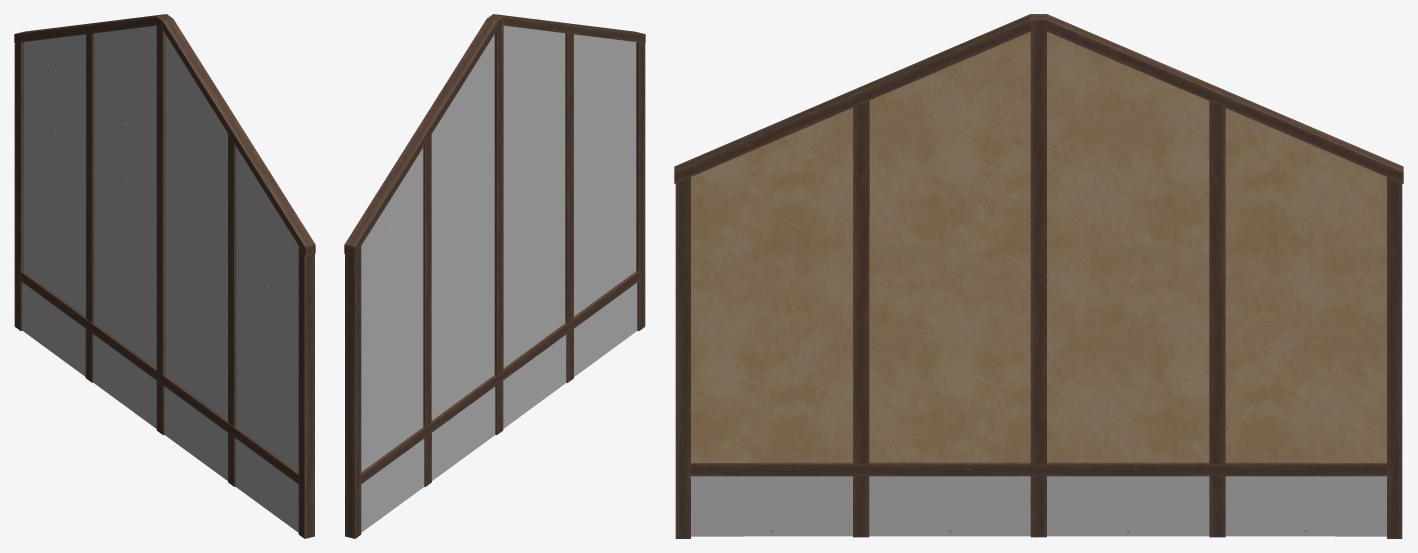
Rendered from yane_frame_4t_1f_6.fbx.
3 views of the same model, side by side, from view 1: azimuth 30°, elevation 25°; view 2: azimuth 150°, elevation 25°; view 3: azimuth 270°, elevation 25° (orthographic). The views are drawn at different scales.
Parts seen in each view (by area): view 1: yane_frame_4t_1f_6; view 2: yane_frame_4t_1f_6; view 3: yane_frame_4t_1f_6.
Part boxes in pixels (x1,y1,x2,y2): yane_frame_4t_1f_6: [14, 14, 315, 538]; yane_frame_4t_1f_6: [344, 14, 645, 538]; yane_frame_4t_1f_6: [674, 14, 1403, 538].
Size of the model in its own units: 18.5 by 708 by 902.
